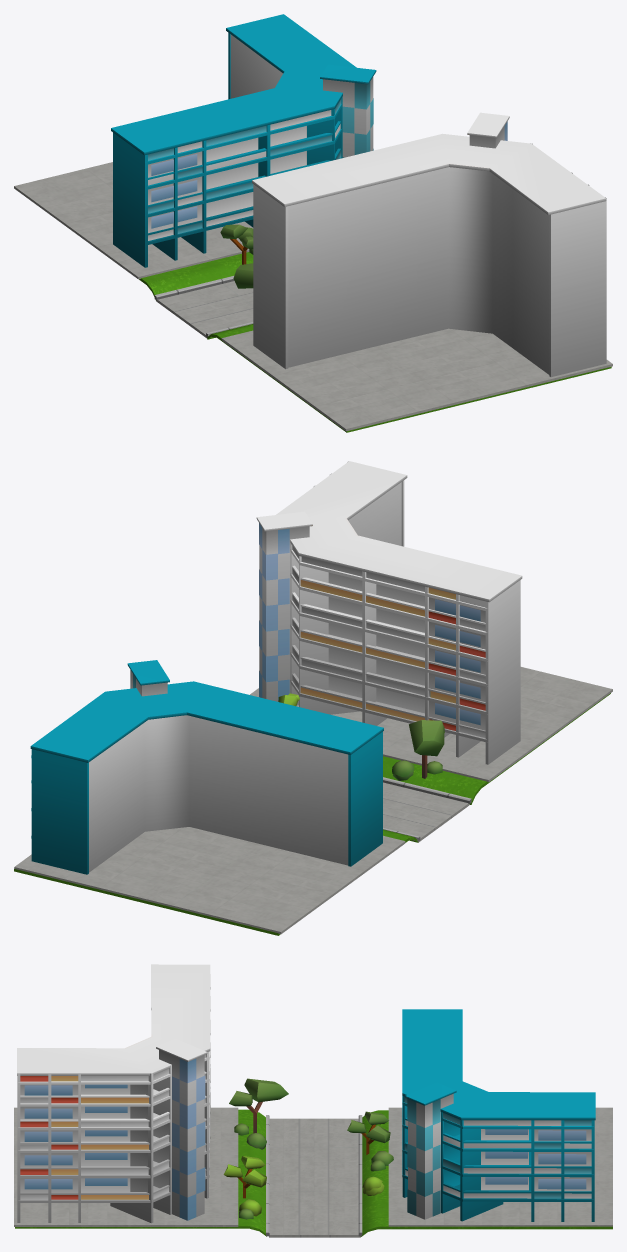
Rendered from Level 1 Chunk 4 V3.fbx.
The picture shows the model from 3 angles, top to bottom: view 1: azimuth 30°, elevation 25°; view 2: azimuth 150°, elevation 25°; view 3: azimuth 270°, elevation 25°; orthographic projection. The views are drawn at different scales.
Parts seen in each view (by area): view 1: pCube15200, polySurface1208, pCube15186, pCube15188, pCube15187, pCube15190, pCube15184, pCube15191; view 2: pCube15200, polySurface1208, pCube15188, pCube15186, pCube15187, pCube15184, polySurface70, pCube15190; view 3: pCube15200, polySurface1208, pCube15187, pCube15188, pCube15186, pCube15190, pCube15184, polySurface70, pCube15191, pCube15195, pCube15183, pCube15193.
Boxes of the visible parts, box(x1,y1,x2,y2) form: pCube15200: box(252, 112, 606, 377); polySurface1208: box(111, 14, 376, 267); pCube15186: box(221, 328, 612, 431); pCube15188: box(14, 162, 253, 279); pCube15187: box(156, 281, 253, 338); pCube15190: box(139, 252, 253, 300); pCube15184: box(207, 324, 611, 432); pCube15191: box(220, 224, 253, 264); pCube15200: box(256, 461, 522, 764); polySurface1208: box(30, 660, 383, 874); pCube15188: box(14, 827, 405, 934); pCube15186: box(250, 667, 612, 782); pCube15187: box(383, 782, 469, 842); pCube15184: box(383, 693, 610, 804); polySurface70: box(409, 720, 444, 778); pCube15190: box(14, 829, 418, 935); pCube15200: box(17, 964, 210, 1223); polySurface1208: box(402, 1009, 595, 1221); pCube15187: box(269, 1118, 360, 1237); pCube15188: box(388, 1107, 612, 1226); pCube15186: box(14, 1107, 238, 1226); pCube15190: box(360, 1110, 612, 1236); pCube15184: box(15, 1109, 266, 1236); polySurface70: box(229, 1078, 288, 1133); pCube15191: box(347, 1111, 390, 1154); pCube15195: box(223, 1156, 266, 1198); pCube15183: box(358, 1115, 362, 1236); pCube15193: box(266, 1115, 269, 1236).
Bounding box in the file's own units: 12.43 × 8.53 × 26.6.
2 materials, 2 textured.
